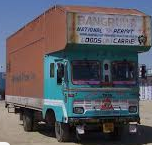truck: (1, 4, 152, 141)
